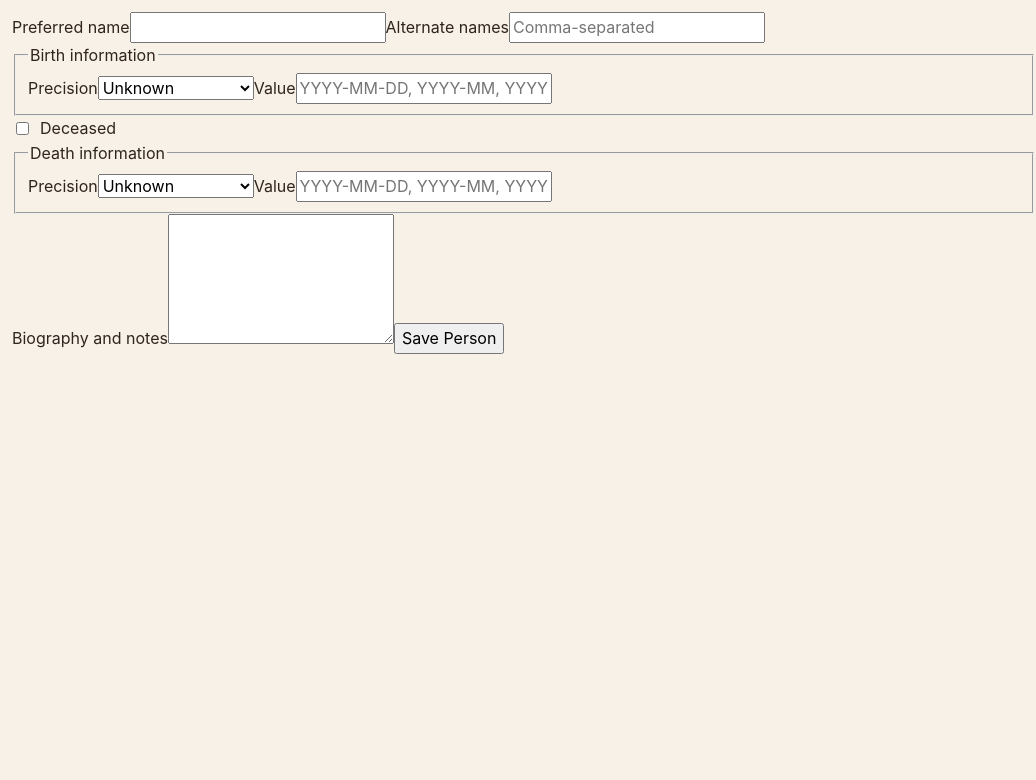
Scenario: maps nested Laravel validation errors onto their visible form fields
The image size is (1036, 780).
Step 1. Type "Ada" into the field labelled "Preferred name" → (258, 27), box [130,12,386,43]
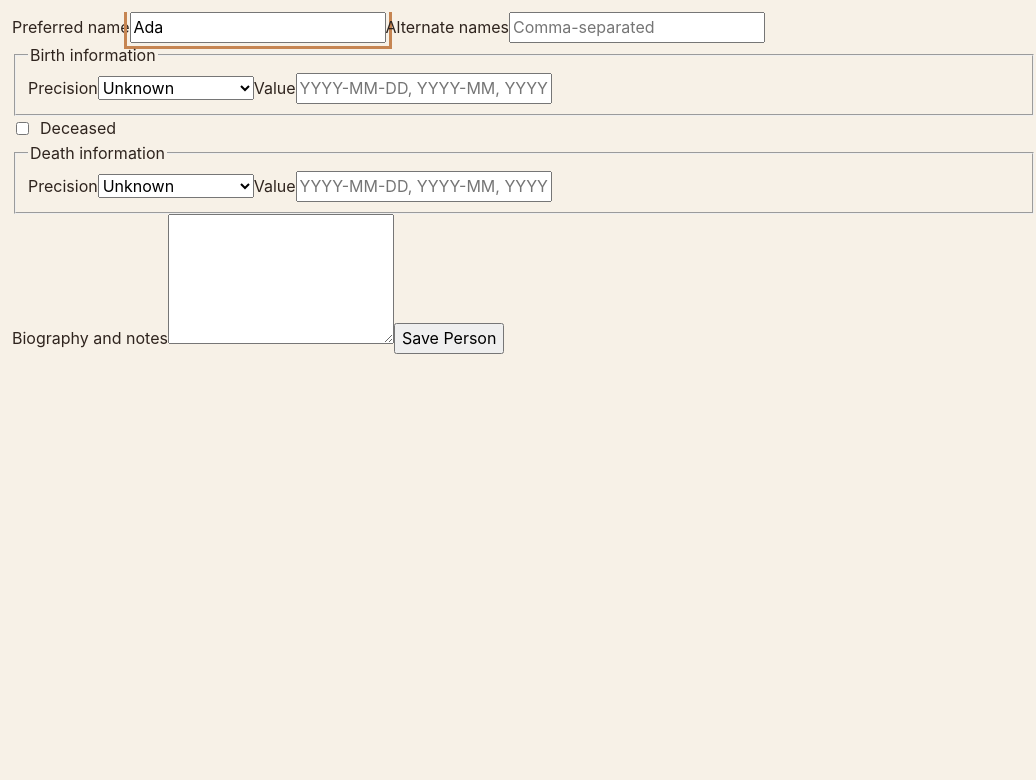
Step 2. Type "A" into the field labelled "Alternate names" → (637, 27), box [509,12,765,43]
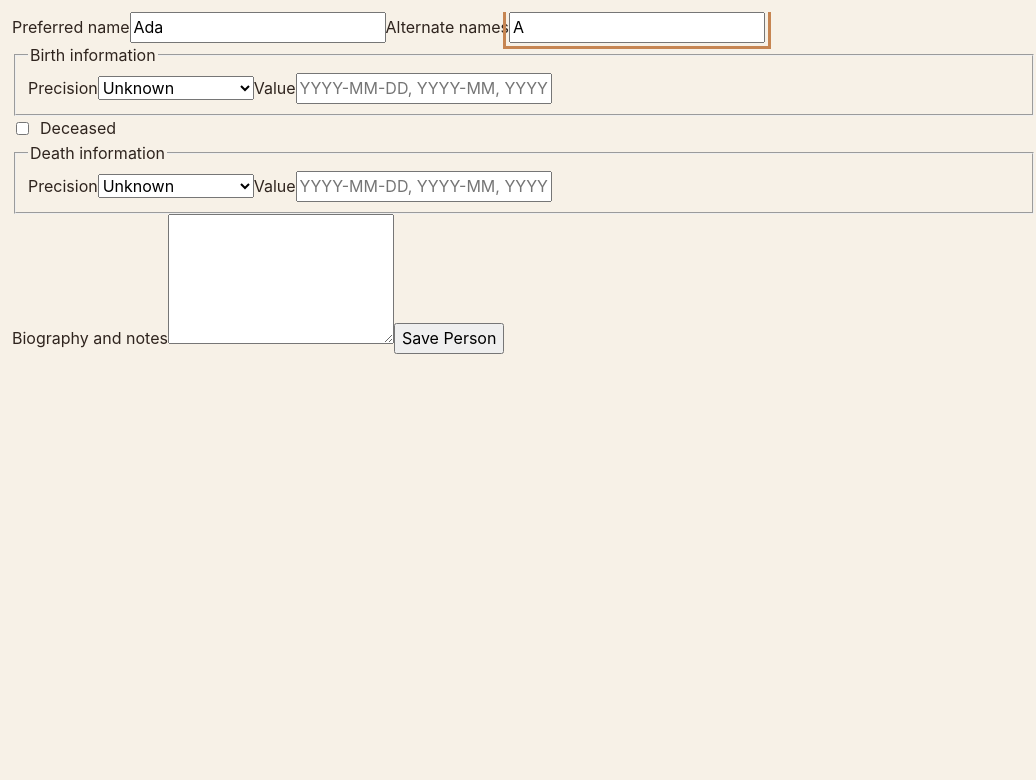
Step 3. Click the button "Save Person" → click(449, 338), box [394,323,504,354]
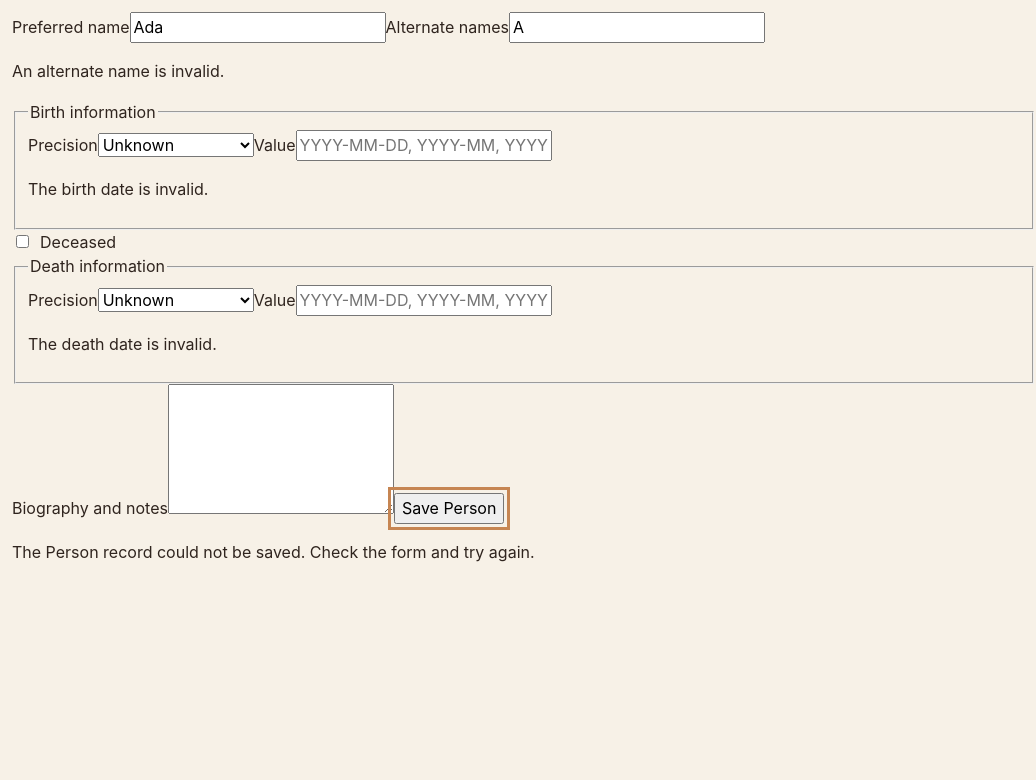
Check: the text "An alternate name is invalid." is shown, box [12,61,224,81]
Check: the text "The birth date is invalid." is shown, box [28,179,208,199]
Check: the text "The death date is invalid." is shown, box [28,334,217,354]
